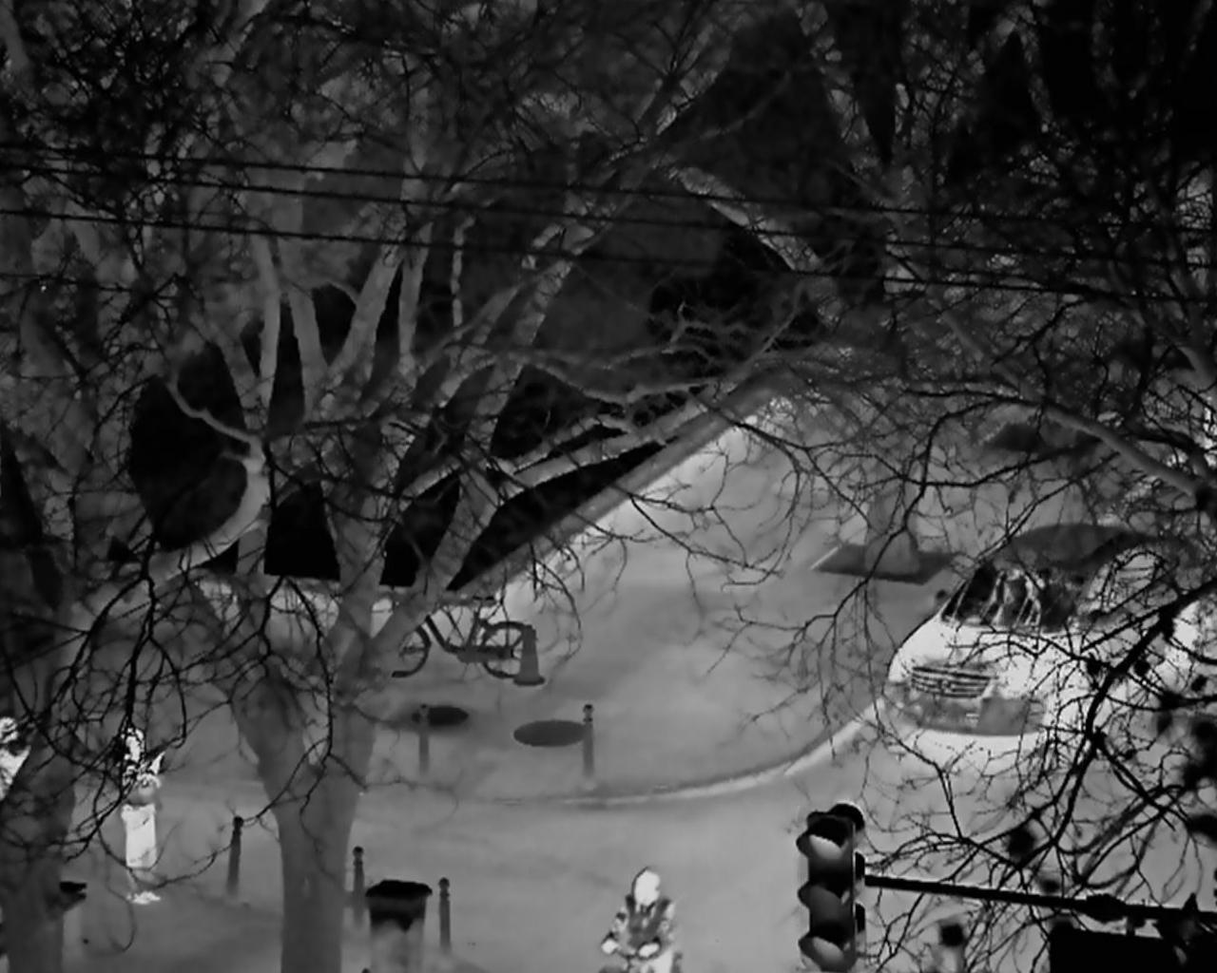person: (119, 721, 170, 906), (600, 865, 679, 973)
